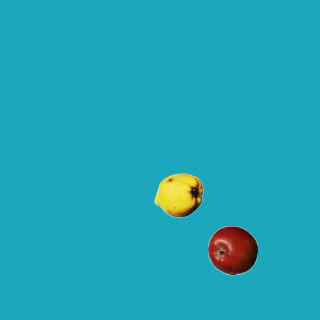Apple Braeburn: (207, 225, 257, 275)
Quince: (153, 170, 203, 220)
